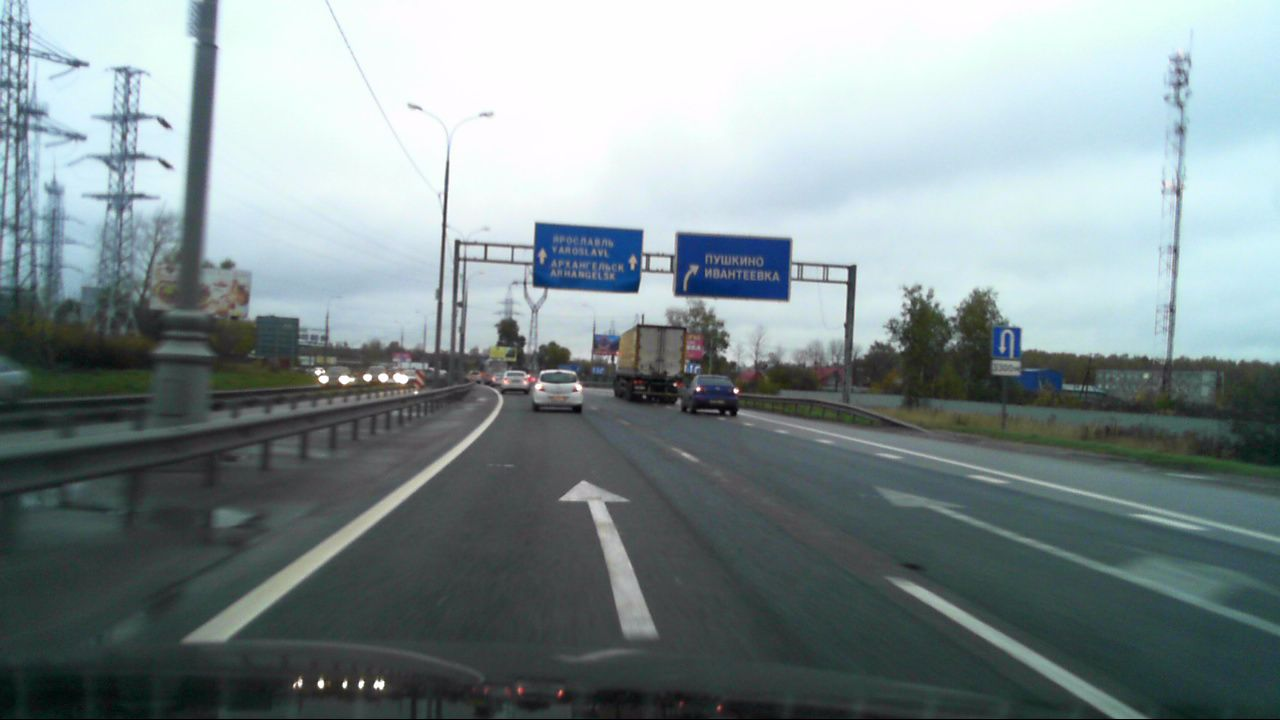U-turn: (992, 327, 1021, 359)
